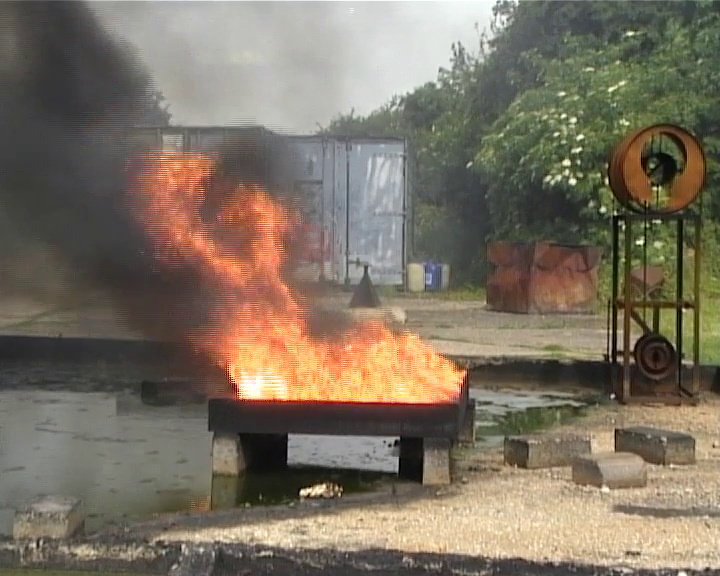fire: (142, 151, 463, 401)
